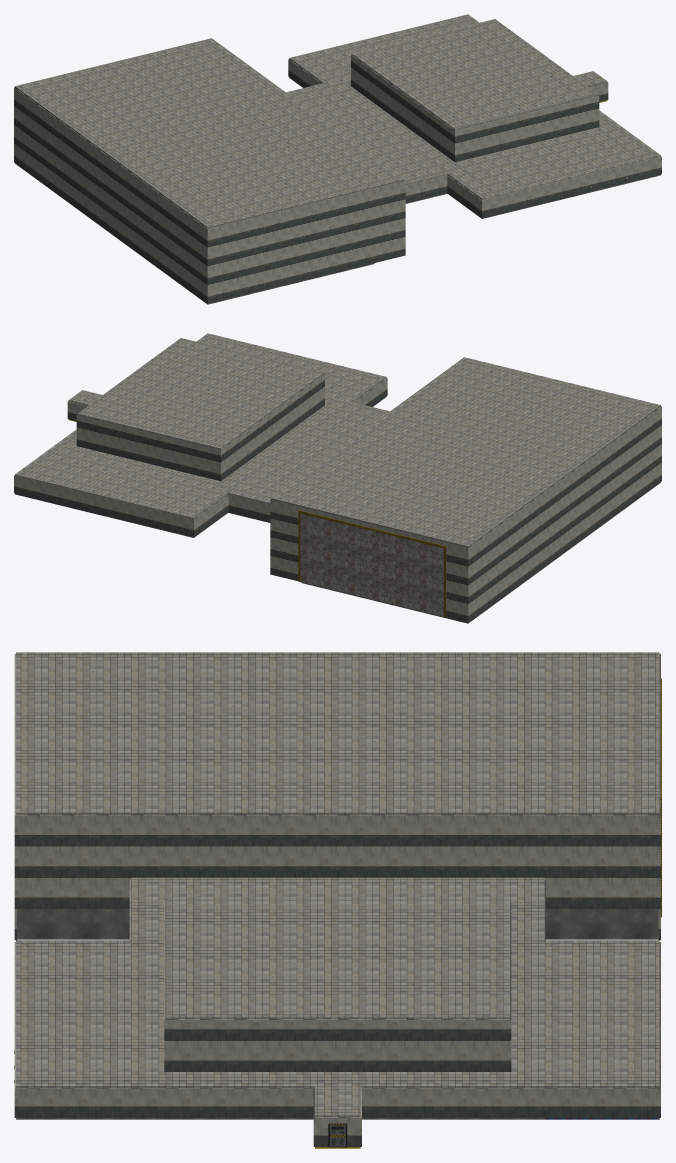
File: estacion.glb
3 renders of one model, top to bottom at view 1: azimuth 30°, elevation 25°; view 2: azimuth 150°, elevation 25°; view 3: azimuth 270°, elevation 25°, orthographic. The views are drawn at different scales.
Visible parts, largest first — view 1: Zona_Hangar, Zona_Reactor, Zona_Laboratorio, Zona_Enfermeria, Zona_Pasillos, Zona_Carga, Zona_Comedor, Zona_Control, Zona_Dormitorios, Zona_EVA; view 2: Zona_Hangar, Zona_Reactor, Puerta_Bahia, Zona_Comedor, Zona_Dormitorios, Zona_Pasillos, Zona_Carga, Zona_Control, Zona_Laboratorio, Zona_Enfermeria, Zona_EVA; view 3: Zona_Hangar, Zona_Reactor, Zona_Pasillos, Zona_Dormitorios, Zona_Enfermeria, Zona_Laboratorio, Zona_Comedor, Zona_Carga, Zona_Control, Zona_EVA.
Part boxes in pixels (<box>): Zona_Hangar: <box>14,38,405,304</box>; Zona_Reactor: <box>351,19,599,162</box>; Zona_Laboratorio: <box>447,150,578,218</box>; Zona_Enfermeria: <box>543,130,661,195</box>; Zona_Pasillos: <box>324,76,626,173</box>; Zona_Carga: <box>341,123,447,203</box>; Zona_Comedor: <box>288,36,389,87</box>; Zona_Control: <box>286,83,367,124</box>; Zona_Dormitorios: <box>379,14,479,44</box>; Zona_EVA: <box>573,71,608,102</box>; Zona_Hangar: <box>270,357,661,623</box>; Zona_Reactor: <box>76,338,324,481</box>; Puerta_Bahia: <box>300,513,443,616</box>; Zona_Comedor: <box>103,471,228,537</box>; Zona_Dormitorios: <box>14,449,138,515</box>; Zona_Pasillos: <box>49,395,351,492</box>; Zona_Carga: <box>283,402,389,461</box>; Zona_Control: <box>228,460,310,522</box>; Zona_Laboratorio: <box>280,353,387,406</box>; Zona_Enfermeria: <box>196,333,290,361</box>; Zona_EVA: <box>67,390,102,421</box>; Zona_Hangar: <box>14,652,661,940</box>; Zona_Reactor: <box>164,900,511,1071</box>; Zona_Pasillos: <box>129,877,545,1119</box>; Zona_Dormitorios: <box>543,1013,660,1119</box>; Zona_Enfermeria: <box>14,1018,131,1119</box>; Zona_Laboratorio: <box>14,940,130,1019</box>; Zona_Comedor: <box>544,940,660,1015</box>; Zona_Carga: <box>129,877,360,940</box>; Zona_Control: <box>395,877,545,940</box>; Zona_EVA: <box>313,1086,361,1148</box>.
Bounding box in the file's own units: 82.27 × 12.4 × 56.37.
Materials: 153 (131 with a texture image).
